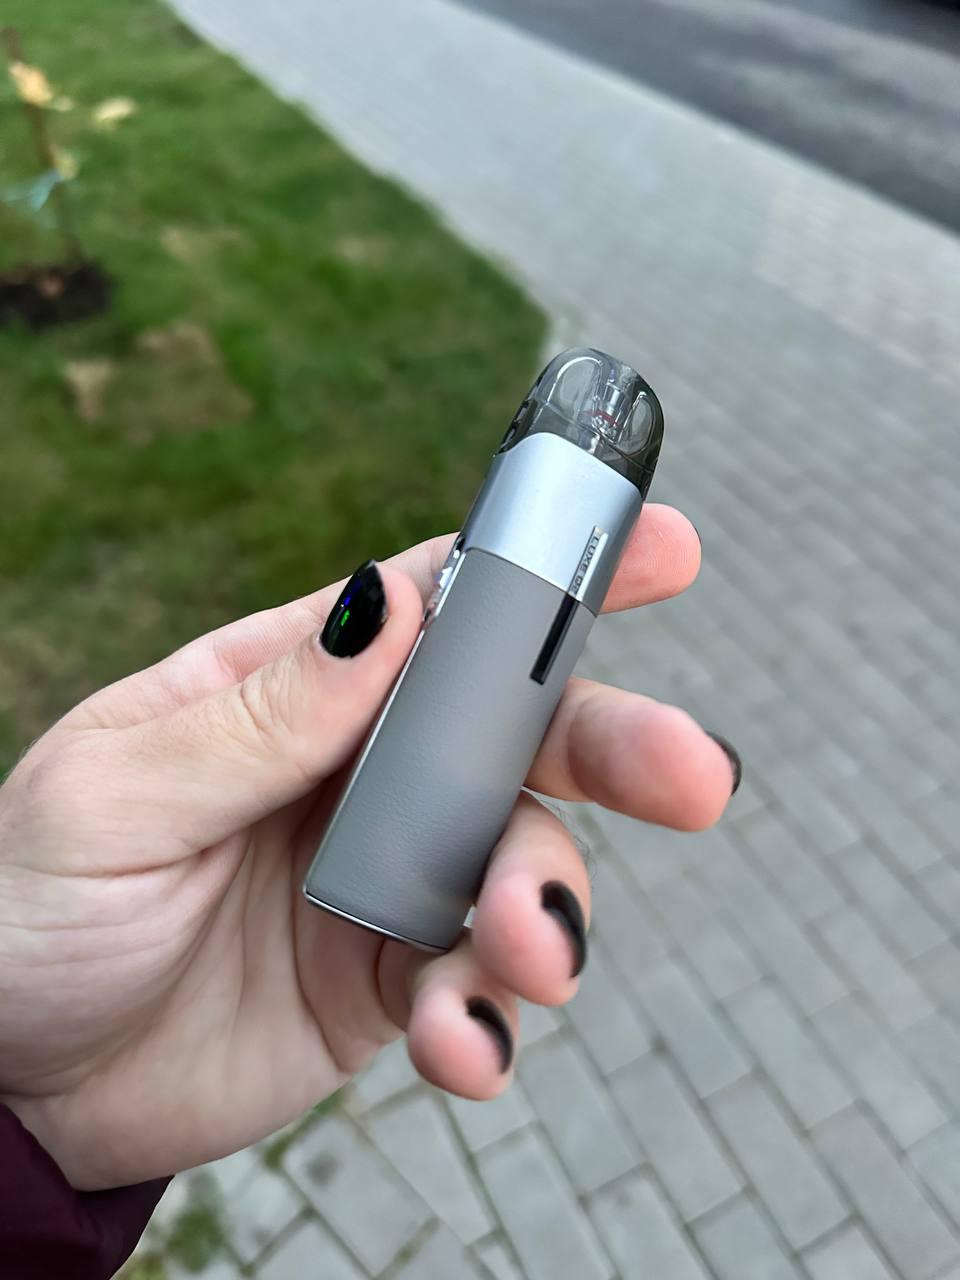Vape: (304, 348, 663, 950)
